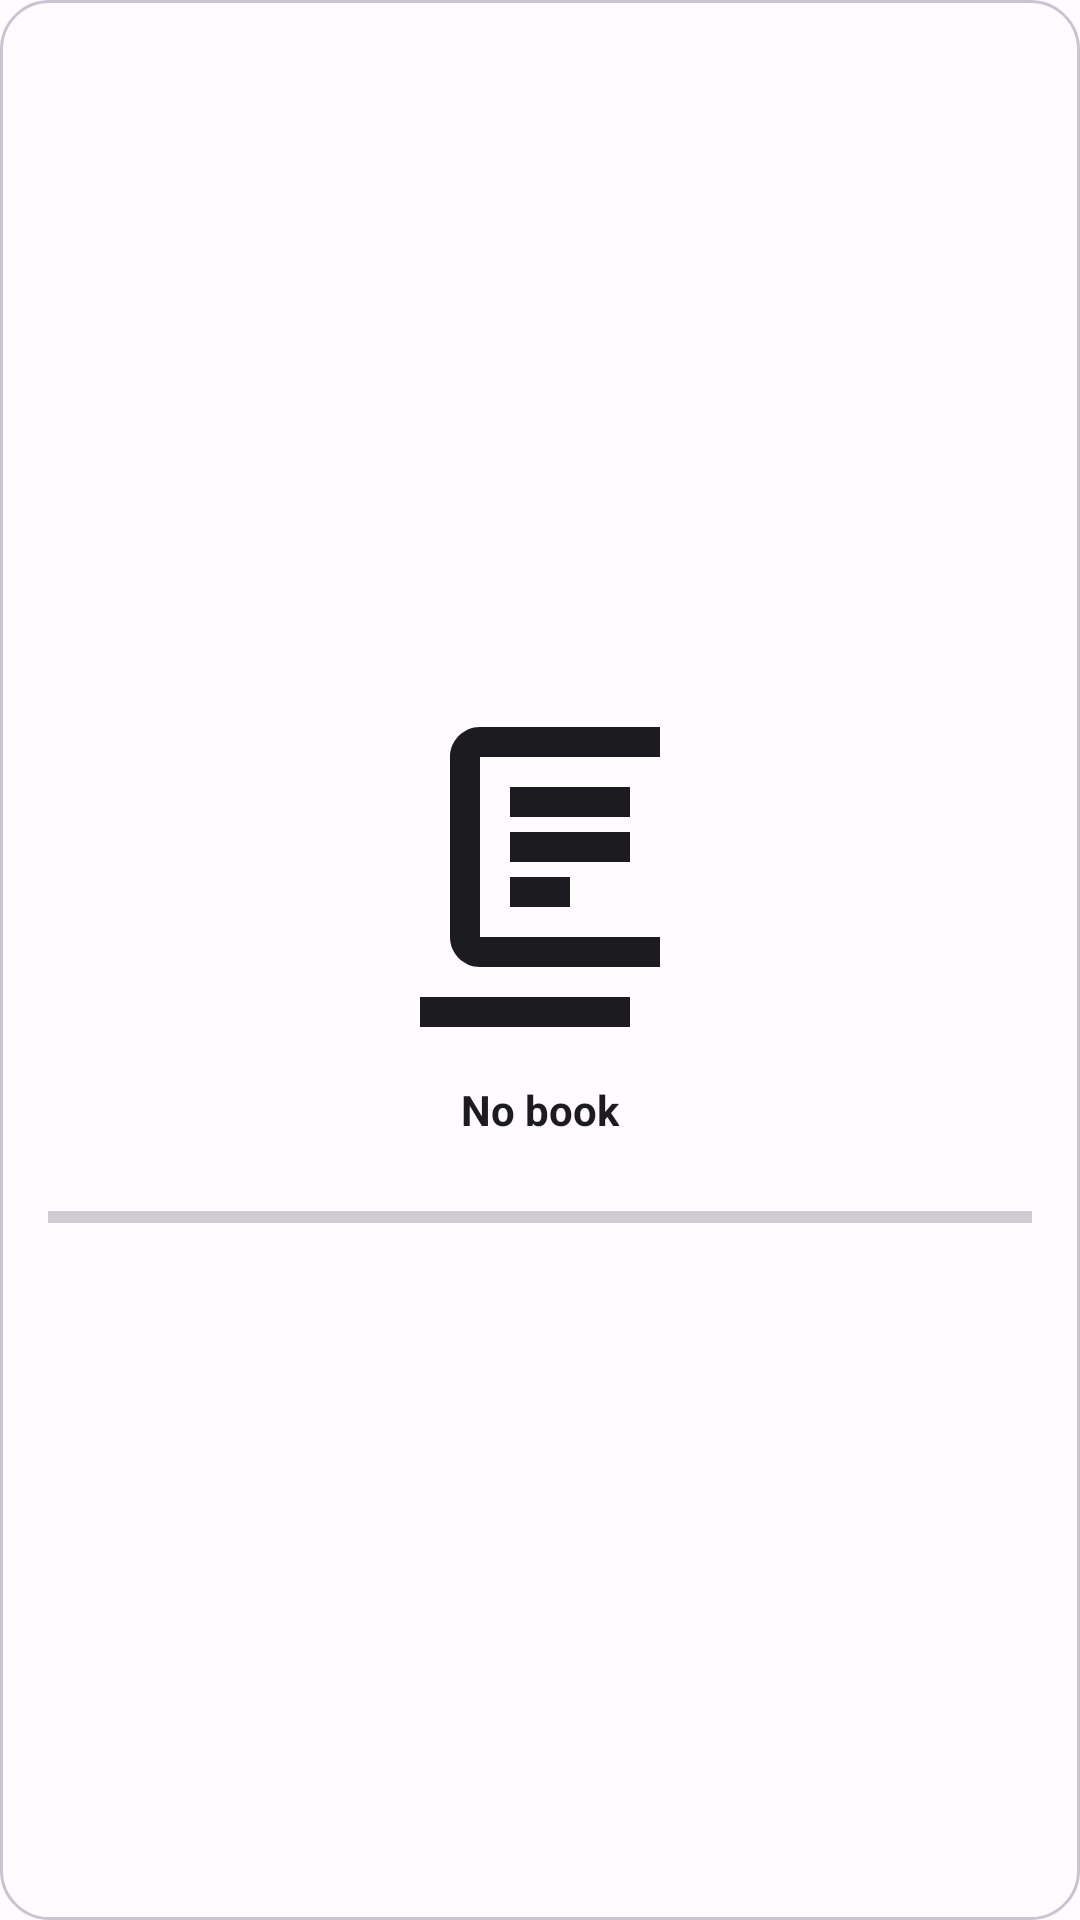

Icon click points for this 1080 x 1920 phone screenshot, format point (x, y):
Book cover: point (540, 877)
